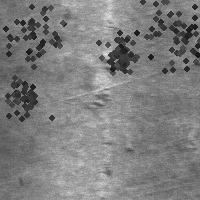rolled-in_scale: (117, 0, 200, 90), (84, 57, 132, 184), (0, 0, 80, 75), (0, 65, 49, 121), (93, 29, 145, 81)
